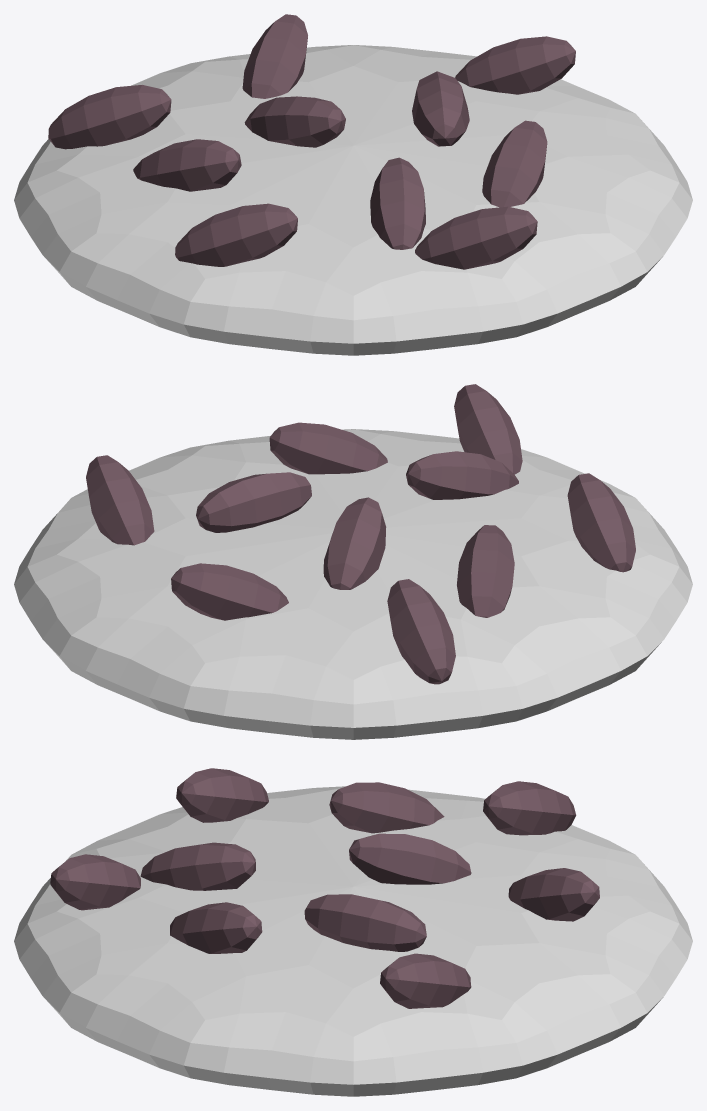
The model's file is RaisinCookie.fbx.
The picture shows the model from 3 angles, top to bottom: view 1: azimuth 30°, elevation 25°; view 2: azimuth 150°, elevation 25°; view 3: azimuth 270°, elevation 25°; orthographic projection.
Parts seen in each view (by area): view 1: RaisinCookieFinal; view 2: RaisinCookieFinal; view 3: RaisinCookieFinal.
Boxes of the visible parts, x1,y1,x2,y2 form: RaisinCookieFinal: (14,14,692,355); RaisinCookieFinal: (14,384,692,739); RaisinCookieFinal: (14,768,692,1096).
Bounding box in the file's own units: 10.83 × 10.83 × 2.65.
